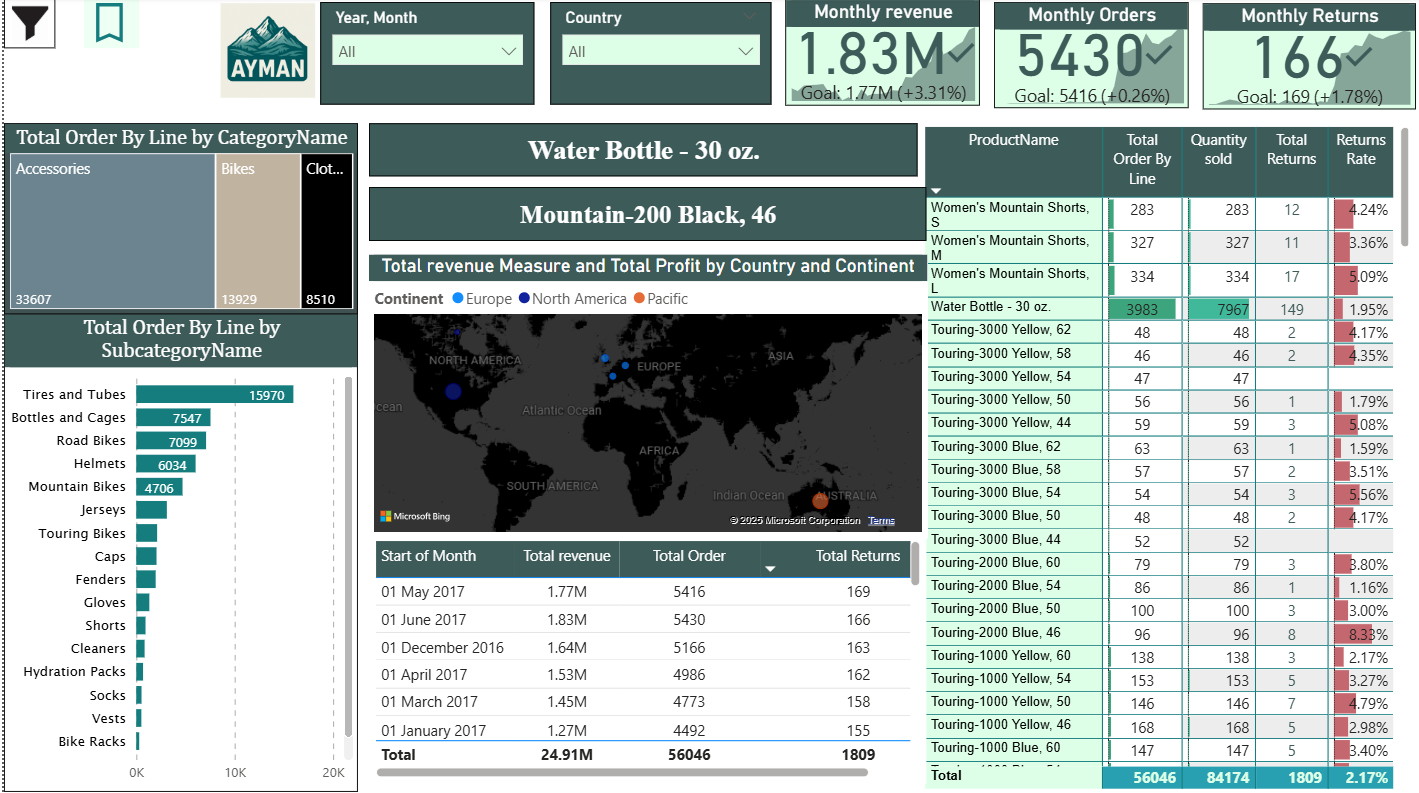

What the dashboard file says about the page in this screenshot:
{"tool":"powerbi","page":{"name":"Summary Exc","canvas":[1280,720],"ordinal":0},"visuals":[{"type":"barChart","fields":{"Y":["A measure Table.Total Order By Line"],"Category":["Product_Subcategory_Lookup.SubcategoryName"]},"box":[0,286.2,320,432.5],"z":0},{"type":"treemap","fields":{"Group":["Product_Category_Lookup.CategoryName"],"Values":["A measure Table.Total Order By Line"]},"box":[0,113.8,320,172.5],"z":1000},{"type":"pivotTable","fields":{"Values":["A measure Table.Total Order By Line","A measure Table.Quantity sold","A measure Table.Total Returns","A measure Table.Returns Rate"],"Rows":["Products_Lookup.ProductName"]},"box":[832.5,113.8,443.8,606.2],"z":2000},{"type":"slicer","fields":{"Values":["Territories_Lookup.Country"]},"box":[493.8,4,200,92.5],"z":3000},{"type":"tableEx","fields":{"Values":["Calendar_Lookup.Start of Month","A measure Table.Total revenue Measure","A measure Table.Total Order By Line","A measure Table.Total Returns"]},"box":[330,487.5,503.8,223.8],"z":4000},{"type":"kpi","title":"Monthly revenue","fields":{"Indicator":["A measure Table.Total revenue Measure"],"TrendLine":["Calendar_Lookup.Start of Month"],"Goal":["A measure Table.prev Month Revenue"]},"box":[706.8,2.5,176.2,96.2],"z":5000},{"type":"kpi","title":"Monthly Orders","fields":{"TrendLine":["Calendar_Lookup.Start of Month"],"Goal":["A measure Table.Prev Month Orders"],"Indicator":["A measure Table.Total Order By Line"]},"box":[894.8,4.2,176.2,96.2],"z":6000},{"type":"kpi","title":"Monthly Returns","fields":{"TrendLine":["Calendar_Lookup.Start of Month"],"Goal":["A measure Table.Prev Month Returns"],"Indicator":["A measure Table.Total Returns"]},"box":[1083.8,5.2,192.5,96.2],"z":7000},{"type":"card","fields":{"Values":["Products_Lookup.ProductName"]},"box":[330,113.8,503.8,47.5],"z":8000},{"type":"card","fields":{"Values":["Products_Lookup.ProductName"]},"box":[330,171.2,503.8,48.8],"z":9000},{"type":"map","fields":{"Category":["Territories_Lookup.Country"],"Series":["Territories_Lookup.Continent"],"Size":["A measure Table.Total revenue Measure"]},"box":[330,232.5,505,256.2],"z":10000},{"type":"slicer","fields":{"Values":["Calendar_Lookup.Date.Variation.Date Hierarchy.Year","Calendar_Lookup.Date.Variation.Date Hierarchy.Month"]},"box":[286.2,4,193.8,92.5],"z":11000},{"type":"image","box":[0,0,46.2,46.2],"z":12000},{"type":"actionButton","box":[72.5,0,50,46.2],"z":13000},{"type":"image","box":[191.2,0,95,96.2],"z":14000}]}

Visuals, with their boxes in screenshot pixels (x1, y1, x2, y2), scaled from the page's 1280x720 canvas onto the 1419x793 screenshot:
barChart - A measure Table.Total Order By Line x Product_Subcategory_Lookup.SubcategoryName: bbox(0, 315, 355, 792)
treemap - Product_Category_Lookup.CategoryName x A measure Table.Total Order By Line: bbox(0, 125, 355, 315)
pivotTable - A measure Table.Total Order By Line x A measure Table.Quantity sold: bbox(923, 125, 1415, 792)
slicer - Territories_Lookup.Country: bbox(547, 4, 769, 106)
tableEx - Calendar_Lookup.Start of Month x A measure Table.Total revenue Measure: bbox(366, 537, 924, 783)
"Monthly revenue" kpi: bbox(784, 3, 979, 109)
"Monthly Orders" kpi: bbox(992, 5, 1187, 111)
"Monthly Returns" kpi: bbox(1201, 6, 1415, 112)
card - Products_Lookup.ProductName: bbox(366, 125, 924, 178)
card - Products_Lookup.ProductName: bbox(366, 189, 924, 242)
map - Territories_Lookup.Country x Territories_Lookup.Continent: bbox(366, 256, 926, 538)
slicer - Calendar_Lookup.Date.Variation.Date Hierarchy.Year x Calendar_Lookup.Date.Variation.Date Hierarchy.Month: bbox(317, 4, 532, 106)
image: bbox(0, 0, 51, 51)
actionButton: bbox(80, 0, 136, 51)
image: bbox(212, 0, 317, 106)
